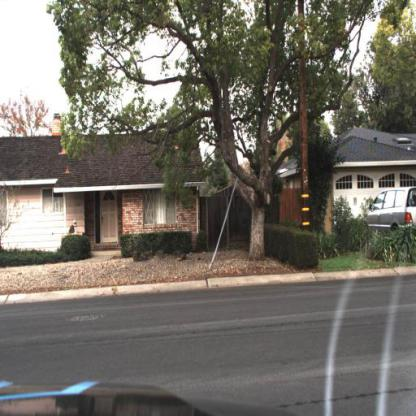car: (358, 187, 416, 248)
